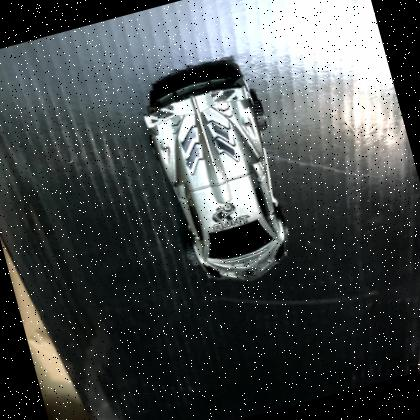Car: (144, 62, 287, 279)
